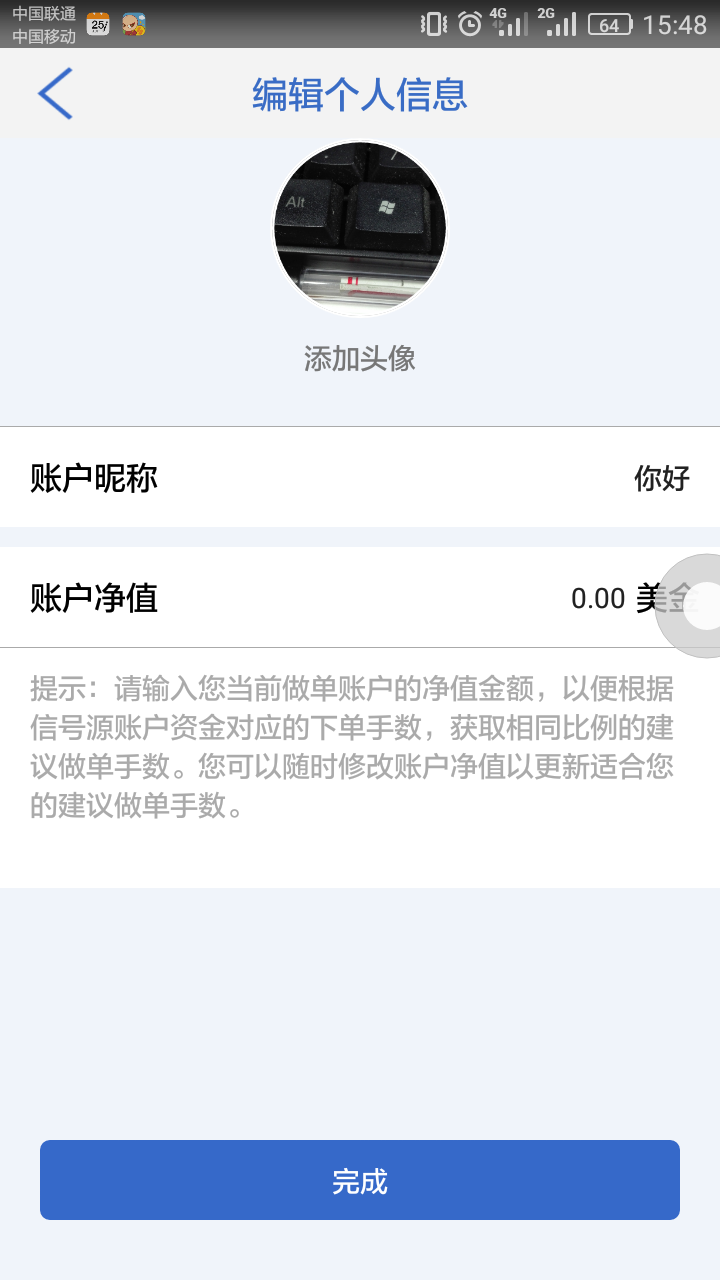button: (39, 1131, 687, 1230)
textview: (18, 658, 694, 840)
